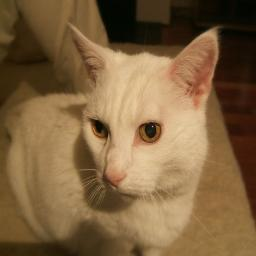catnose: (103, 164, 127, 188)
